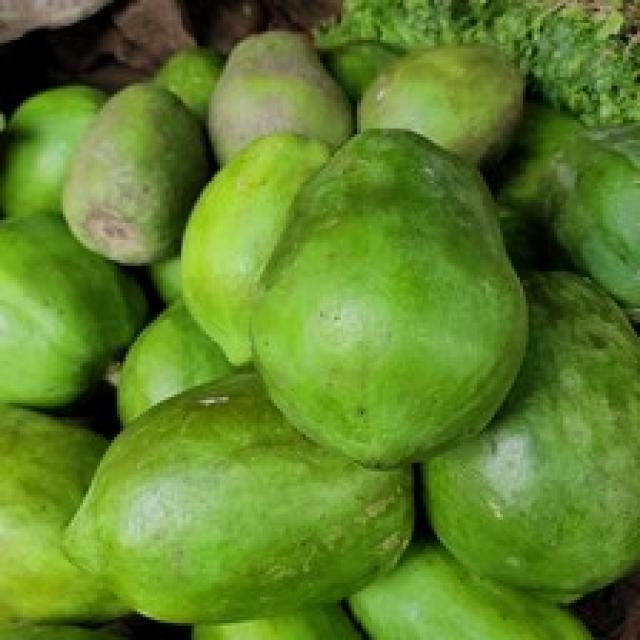Pepaya unrippen: (254, 129, 529, 458), (56, 369, 411, 619)
